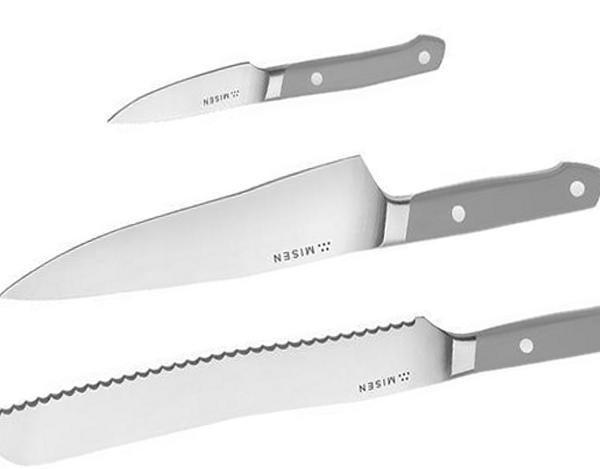knife: (1, 154, 600, 300), (107, 36, 445, 125)
